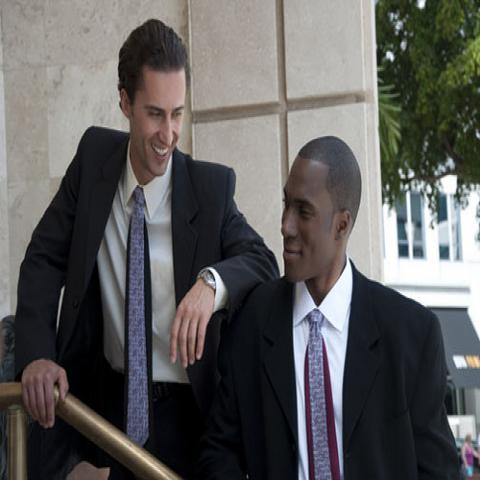car: (456, 438, 480, 467)
